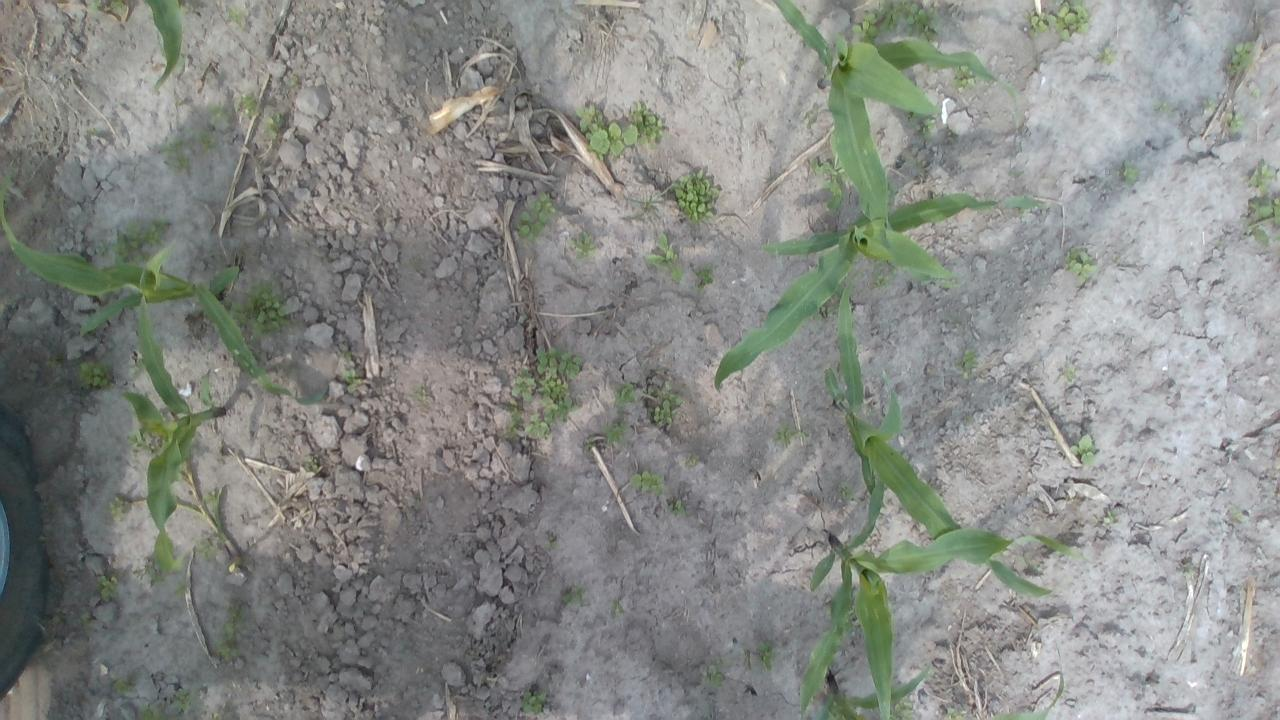Maize: (0, 169, 328, 408), (827, 278, 1055, 602), (802, 485, 1082, 720), (710, 191, 1047, 384), (760, 0, 1021, 235), (125, 243, 223, 579), (812, 667, 1062, 720), (146, 0, 194, 92)
Weeds: (226, 277, 295, 338), (876, 0, 939, 44), (669, 166, 717, 219), (810, 158, 853, 208), (514, 192, 558, 240), (538, 375, 580, 424), (575, 102, 610, 160), (1242, 195, 1280, 246), (644, 234, 683, 282), (1050, 0, 1092, 42), (629, 99, 664, 148), (533, 346, 584, 378), (111, 220, 146, 266), (1066, 246, 1104, 288), (1224, 38, 1258, 76), (654, 382, 682, 424), (1246, 162, 1280, 194), (127, 426, 161, 457), (156, 138, 188, 170), (608, 121, 637, 156), (79, 360, 112, 390), (628, 470, 666, 496), (954, 346, 982, 381), (850, 10, 877, 46), (1068, 432, 1096, 466), (564, 232, 599, 258), (602, 412, 629, 445), (775, 422, 809, 448), (220, 600, 242, 638), (262, 112, 288, 144), (172, 686, 200, 715), (702, 657, 726, 689), (510, 368, 534, 400), (691, 261, 716, 291), (1024, 10, 1050, 38), (502, 400, 520, 439), (212, 636, 240, 661), (230, 90, 256, 116), (193, 535, 220, 560), (871, 262, 897, 287), (610, 379, 636, 404), (520, 691, 547, 715), (525, 414, 552, 438), (105, 494, 132, 518), (951, 64, 974, 92), (758, 639, 778, 671), (1022, 550, 1044, 578), (888, 700, 918, 720), (98, 572, 118, 602), (142, 697, 168, 720), (1224, 105, 1246, 132), (1095, 46, 1120, 69), (141, 563, 166, 586), (1120, 159, 1140, 186), (88, 0, 126, 14), (110, 677, 132, 701), (146, 216, 166, 242), (563, 583, 585, 606), (193, 127, 215, 150), (343, 366, 361, 393), (605, 598, 626, 620), (225, 6, 248, 26), (917, 116, 936, 140), (636, 198, 665, 212), (886, 178, 900, 204), (1155, 100, 1176, 116), (842, 612, 857, 634), (836, 482, 855, 499), (667, 499, 686, 516), (945, 706, 968, 720), (814, 304, 836, 318), (78, 612, 95, 630), (1064, 361, 1078, 382), (208, 103, 222, 124), (44, 353, 62, 369), (304, 453, 319, 472), (412, 383, 427, 401), (204, 488, 218, 506), (174, 584, 192, 598), (1184, 561, 1197, 580), (172, 464, 186, 480), (1229, 505, 1242, 522), (906, 112, 921, 126), (1202, 99, 1219, 110), (804, 109, 818, 122), (1105, 510, 1116, 524), (210, 712, 229, 720), (177, 4, 189, 16), (96, 243, 106, 257), (290, 73, 301, 85), (584, 436, 594, 449), (1250, 86, 1260, 98), (684, 456, 699, 464), (342, 348, 351, 359), (52, 615, 62, 623), (947, 129, 956, 137), (546, 542, 558, 548), (38, 536, 49, 542), (644, 388, 652, 395), (735, 60, 744, 66)
